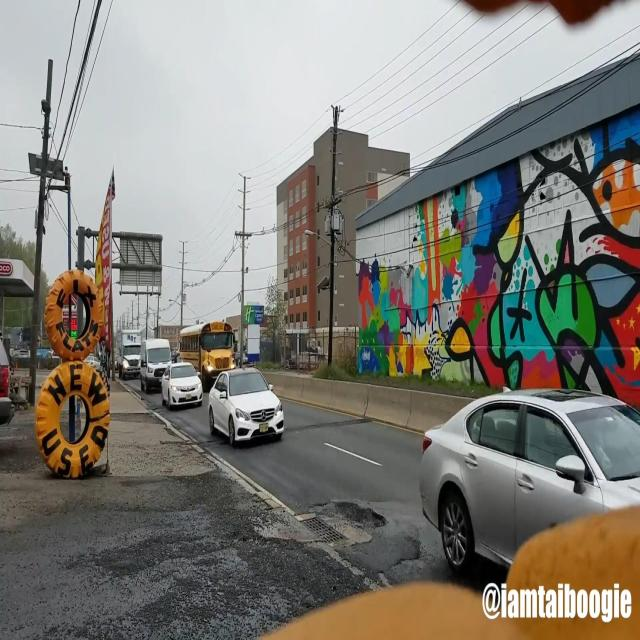pothole: (308, 500, 389, 535)
